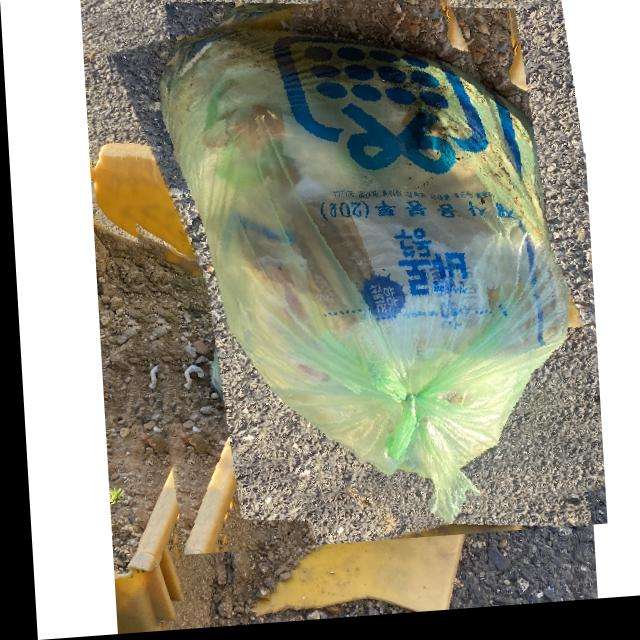general_trashbag: (110, 0, 597, 549)
